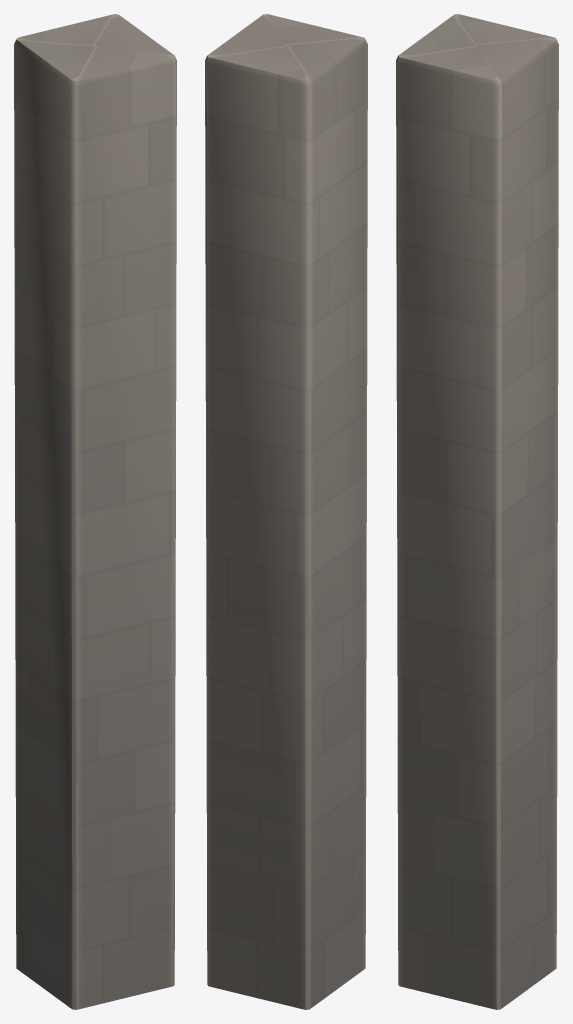
File: ext_8x8.glb
3 views of the same model, side by side, from view 1: azimuth 30°, elevation 25°; view 2: azimuth 150°, elevation 25°; view 3: azimuth 330°, elevation 25° (orthographic).
Parts seen in each view (by area): view 1: ext_8x8.001; view 2: ext_8x8.001; view 3: ext_8x8.001.
Part boxes in pixels (x1,y1,x2,y2): ext_8x8.001: [14, 14, 176, 1009]; ext_8x8.001: [205, 14, 367, 1009]; ext_8x8.001: [396, 14, 558, 1009].
Bounding box in the file's own units: 4.75 × 40 × 4.75.
Materials: 1 (1 with a texture image).
